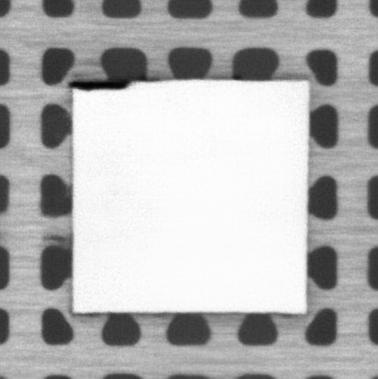DIE_BROKEN: (68, 78, 139, 92)
